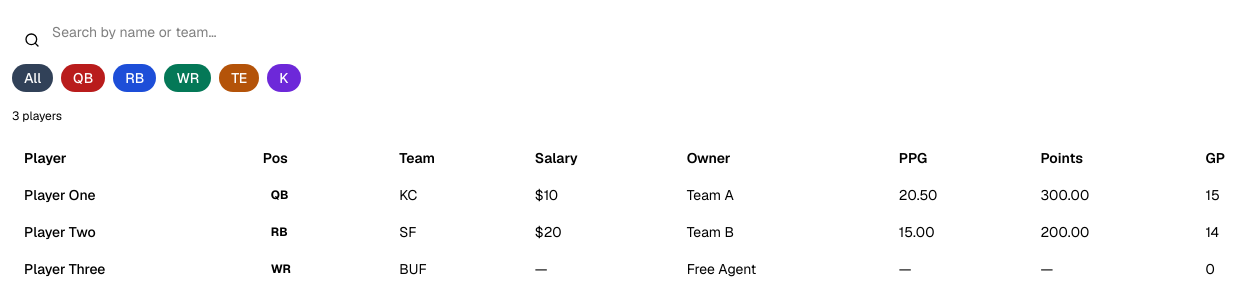
Test case: PlayerSearch › filters by position
The image size is (1242, 294).
# Target the button specifically
Click the button "QB" at {"x": 83, "y": 78}, box [61,64,105,92]
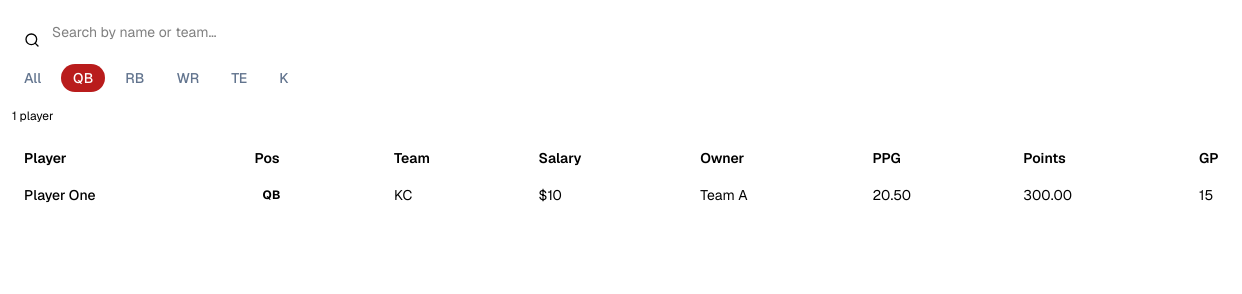
expect the link "Player One" is shown: met, box [24,186,96,204]
expect the link "Player Two" is gone: met
